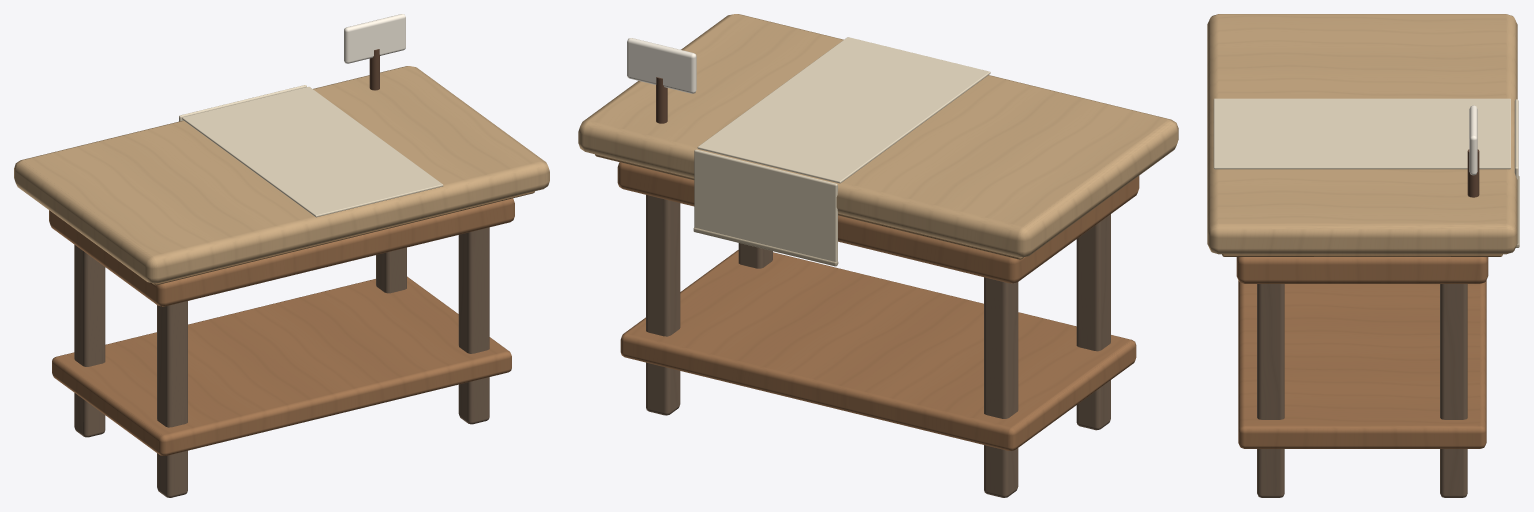
Rendered from display-1.glb.
3 views of the same model, side by side, from view 1: azimuth 30°, elevation 25°; view 2: azimuth 150°, elevation 25°; view 3: azimuth 270°, elevation 25° (orthographic). The views are drawn at different scales.
Parts seen in each view (by area): view 1: display-1; view 2: display-1; view 3: display-1.
Part boxes in pixels (box(x1,y1,x2,y2)): display-1: box(14, 14, 549, 497); display-1: box(578, 14, 1178, 497); display-1: box(1207, 14, 1519, 497).
Bounding box in the file's own units: 1.58 × 1.25 × 0.9565.
Materials: 8 (4 with a texture image).
